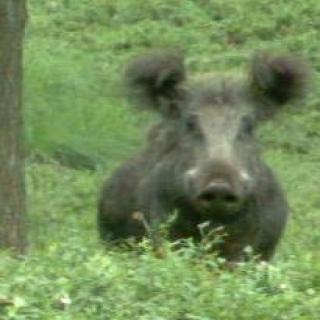Pig: (68, 19, 320, 284)
